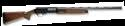gun: (1, 1, 125, 26)
